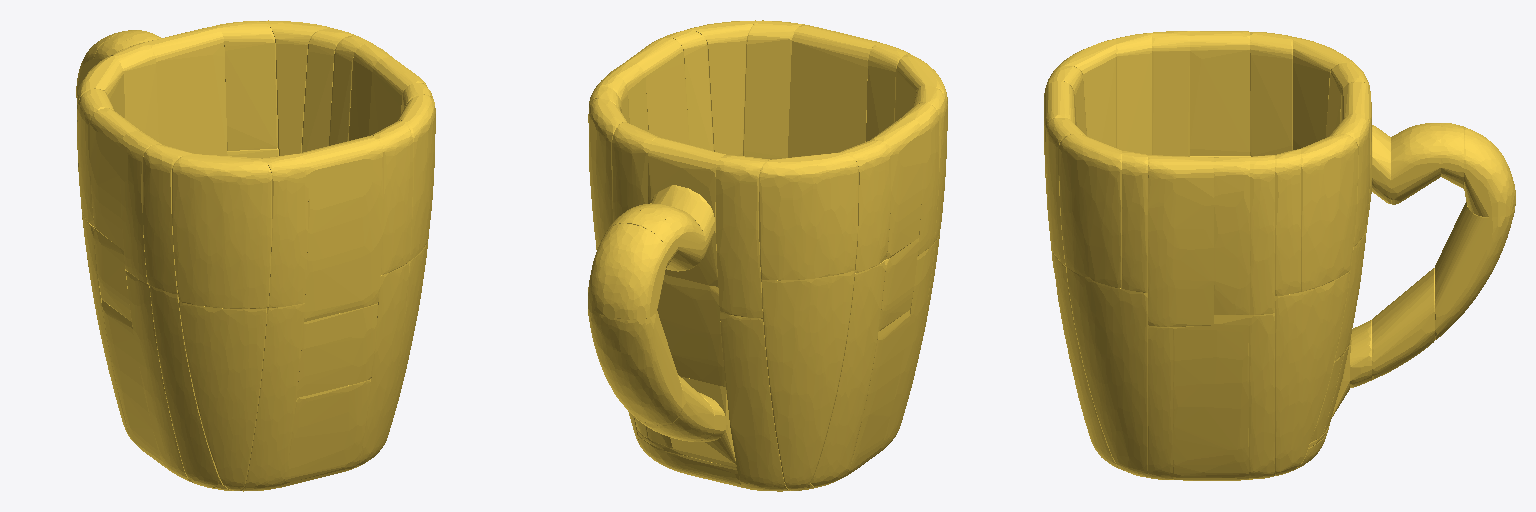
robot.urdf — 127.urdf:
<?xml version="1.0" ?>
<robot name="127.urdf">
	<link name="baseLink">
		<inertial>
			<origin rpy="0 0 0" xyz="0 0 0"/>
				<mass value="0.1"/>
				<inertia ixx="6e-5" ixy="0" ixz="0" iyy="6e-5" iyz="0" izz="6e-5"/>
		</inertial>
		<visual>
			<origin rpy="0 0 0" xyz="0 0 0"/>
			<geometry>
				<mesh filename="14_decom_wt.obj" scale="1.02 1.02 1.03"/>
			</geometry>
			<material name="yellow">
				<color rgba="0.98 0.84 0.35 1"/>
			</material>
		</visual>
		<collision>
			<origin rpy="0 0 0" xyz="0 0 0"/>
			<geometry>
				<mesh filename="14_decom_wt.obj" scale="1.02 1.02 1.03"/>
			</geometry>
		</collision>
	</link>
</robot>

--- Facts derived from the render (not from the file) ---
3 views of the same robot in one strip: view 1: azimuth 30°, elevation 25°; view 2: azimuth 150°, elevation 25°; view 3: azimuth 270°, elevation 25° (orthographic).
Robot: 127.urdf — 1 links, 0 joints (none); root link baseLink; default pose: every joint at zero.
Visible links, largest first — view 1: baseLink; view 2: baseLink; view 3: baseLink.
Boxes of the visible links, x1,y1,x2,y2 form: baseLink: (76, 20, 435, 491); baseLink: (588, 20, 947, 491); baseLink: (1044, 31, 1515, 480).
Bounding box of the posed robot: 0.1002 × 0.1441 × 0.1156 m (x, y, z).
1 mesh visuals loaded from 1 distinct referenced files (1 OBJ).